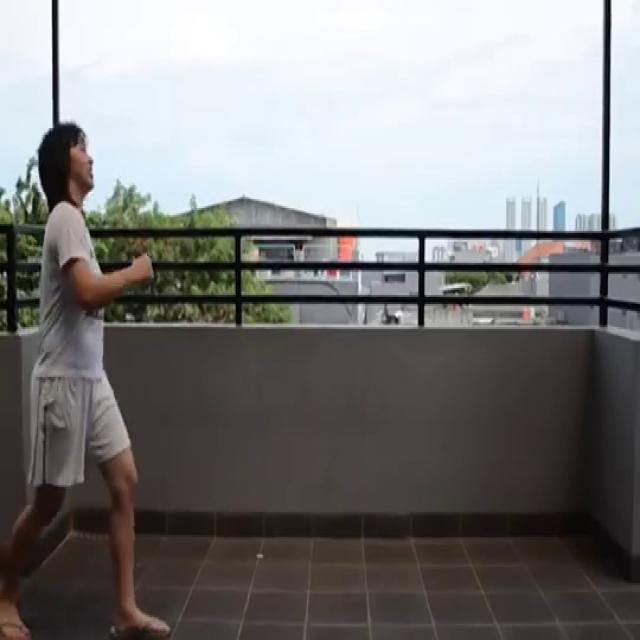normal: (5, 119, 179, 637)
